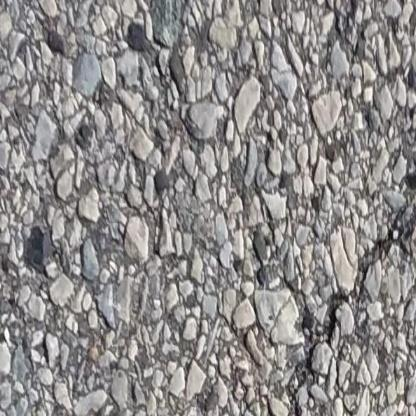Cracks: (267, 147, 416, 416)
